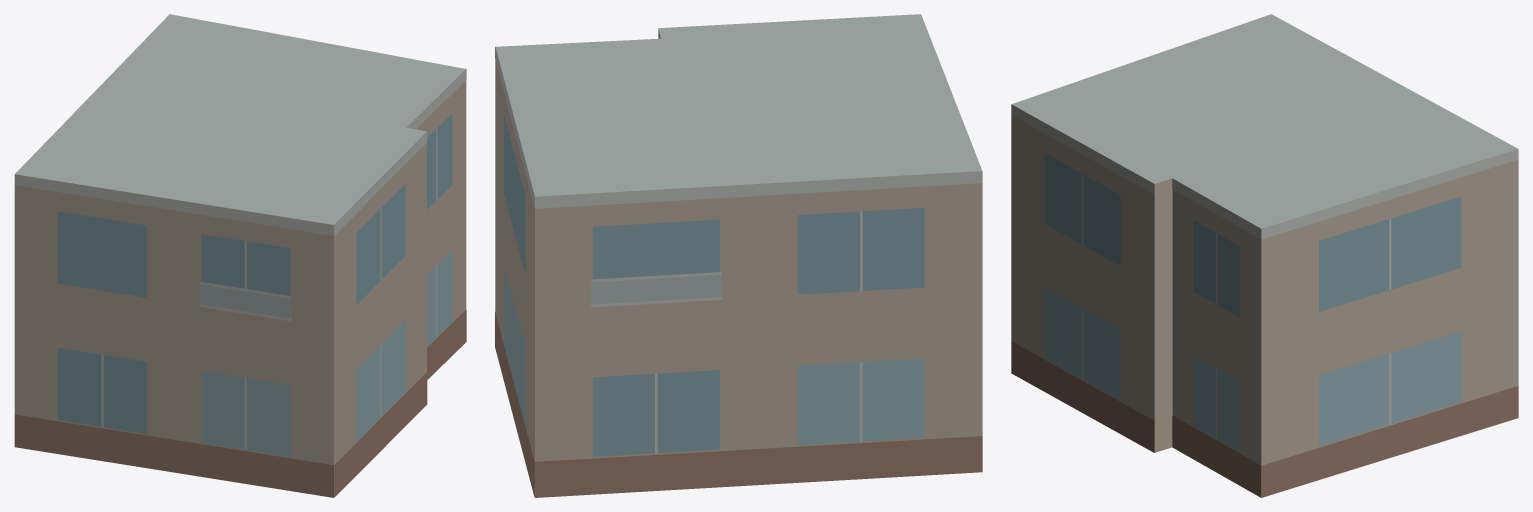
Rendered from survey-upis-32807465.glb.
3 views of the same model, side by side, from view 1: azimuth 30°, elevation 25°; view 2: azimuth 150°, elevation 25°; view 3: azimuth 270°, elevation 25° (orthographic). The views are drawn at different scales.
Parts seen in each view (by area): view 1: survey-upis-32807465.tmp; view 2: survey-upis-32807465.tmp; view 3: survey-upis-32807465.tmp.
Boxes of the visible parts, box(x1,y1,x2,y2) form: survey-upis-32807465.tmp: box(14, 14, 466, 497); survey-upis-32807465.tmp: box(495, 14, 982, 497); survey-upis-32807465.tmp: box(1011, 14, 1518, 497).
Size of the model in its own units: 10.46 by 6.1 by 10.43.
